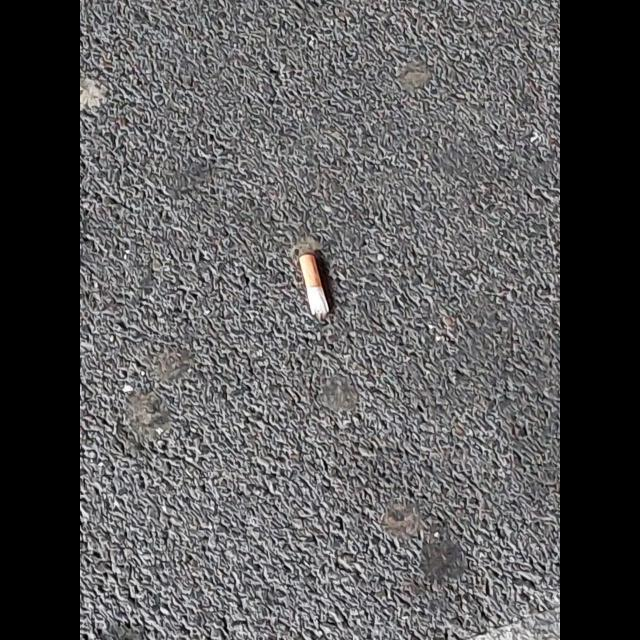cigarette: (299, 254, 329, 321)
